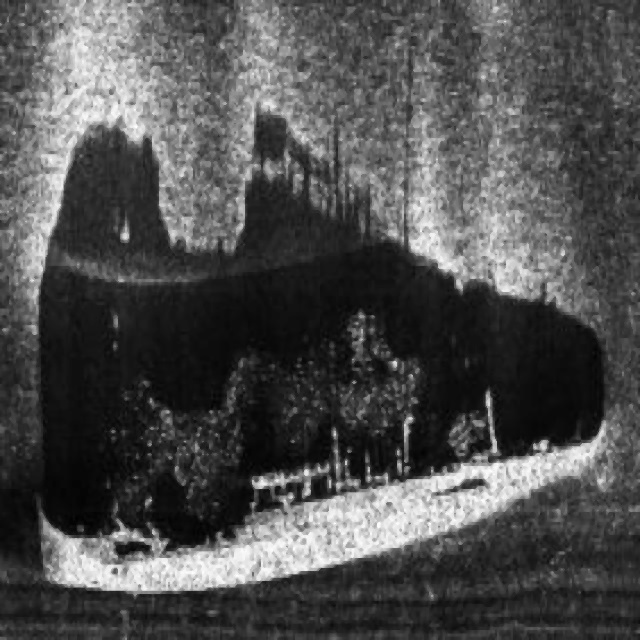Ship: (24, 384, 621, 616)
